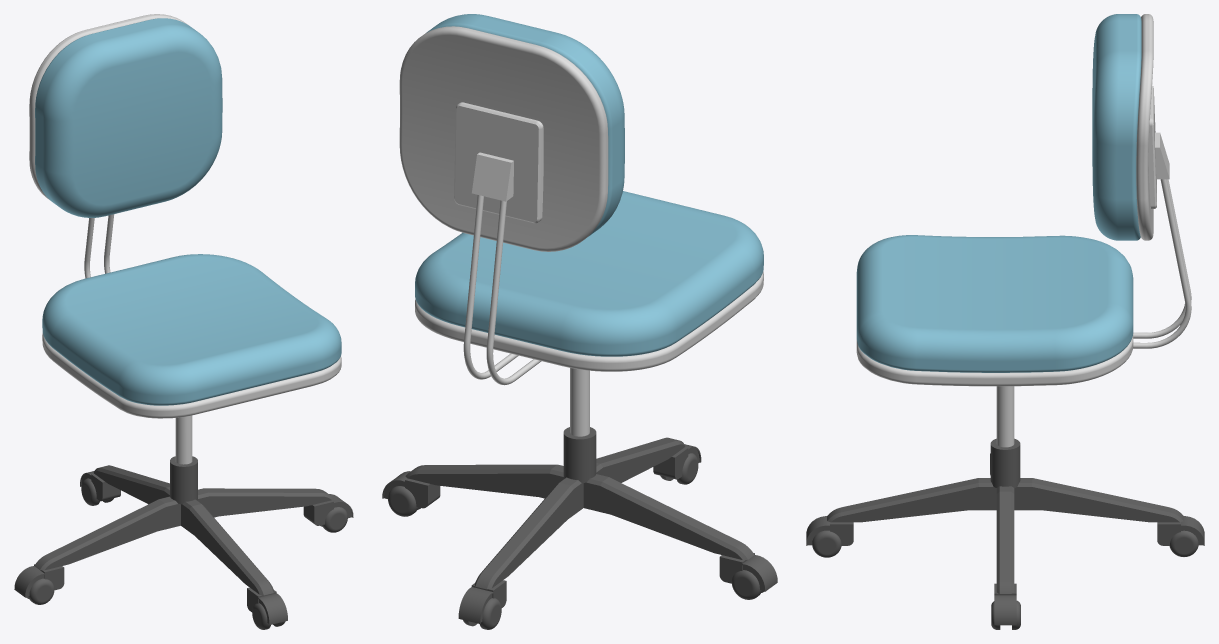
The model's file is 003_キャスター付き椅子.glb.
3 views of the same model, side by side, from view 1: azimuth 30°, elevation 25°; view 2: azimuth 150°, elevation 25°; view 3: azimuth 270°, elevation 25° (orthographic). The views are drawn at different scales.
Parts seen in each view (by area): view 1: ボディ; view 2: ボディ; view 3: ボディ.
Part boxes in pixels (bbox=[...]): ボディ: bbox=[14, 14, 353, 629]; ボディ: bbox=[382, 14, 777, 629]; ボディ: bbox=[806, 14, 1204, 629].
Size of the model in its own units: 0.6702 by 0.96 by 0.6702.
